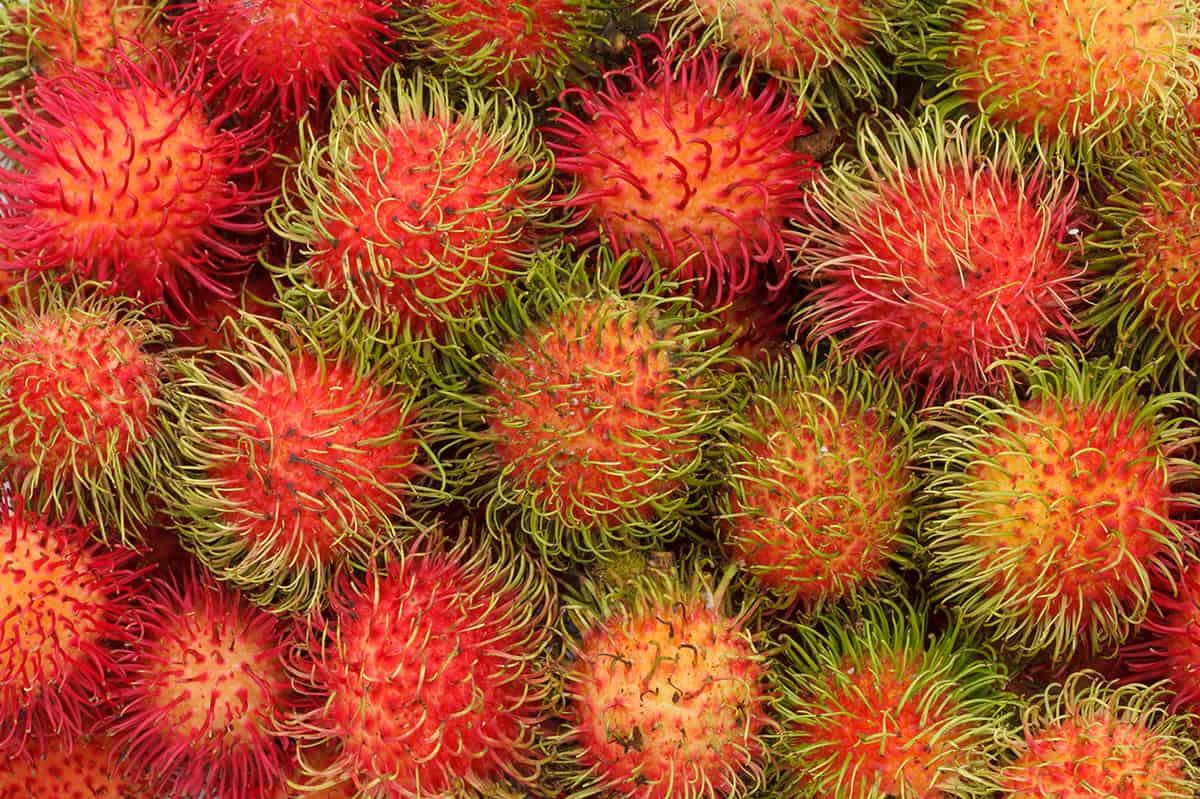chom_chom: (306, 528, 564, 796), (301, 84, 547, 362), (813, 128, 1068, 388), (555, 50, 806, 312)
